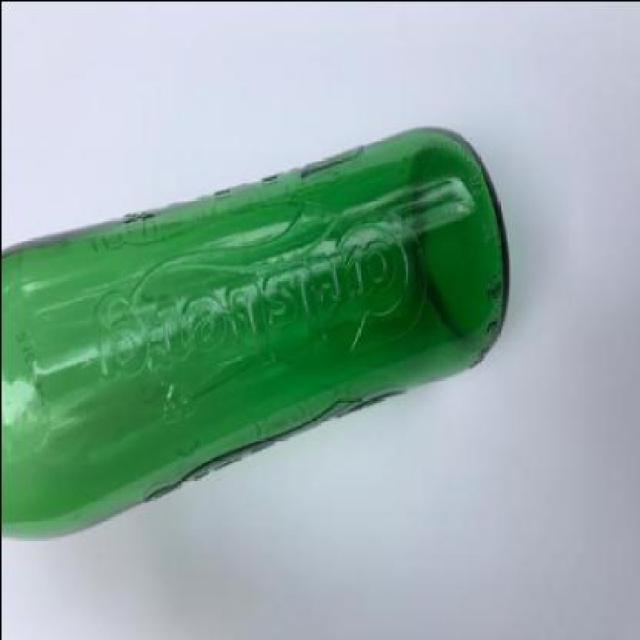GLASS: (1, 125, 508, 537)
